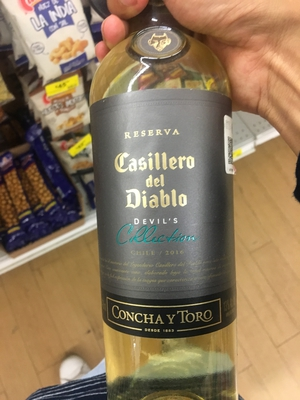casillero del diablo devils collection verde: (78, 31, 263, 397)
